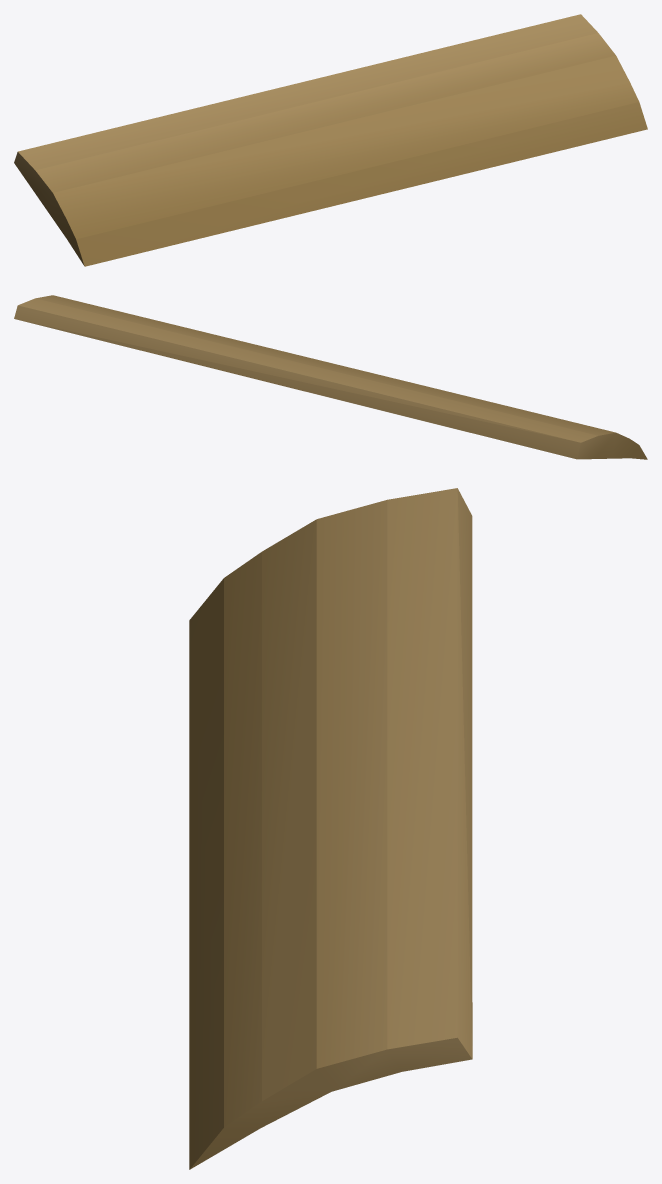
File: Farmhouse_LowerRoof.gltf
3 renders of one model, top to bottom at view 1: azimuth 30°, elevation 25°; view 2: azimuth 150°, elevation 25°; view 3: azimuth 270°, elevation 25°, orthographic. The views are drawn at different scales.
Visible parts, largest first — view 1: Farmhouse_LowerRoof; view 2: Farmhouse_LowerRoof; view 3: Farmhouse_LowerRoof.
Boxes of the visible parts, box(x1,y1,x2,y2) form: Farmhouse_LowerRoof: box(14, 14, 647, 266); Farmhouse_LowerRoof: box(14, 295, 647, 459); Farmhouse_LowerRoof: box(189, 488, 472, 1169).
Bounding box in the file's own units: 4.83 × 0.5418 × 1.05.
1 material, 1 textured.
